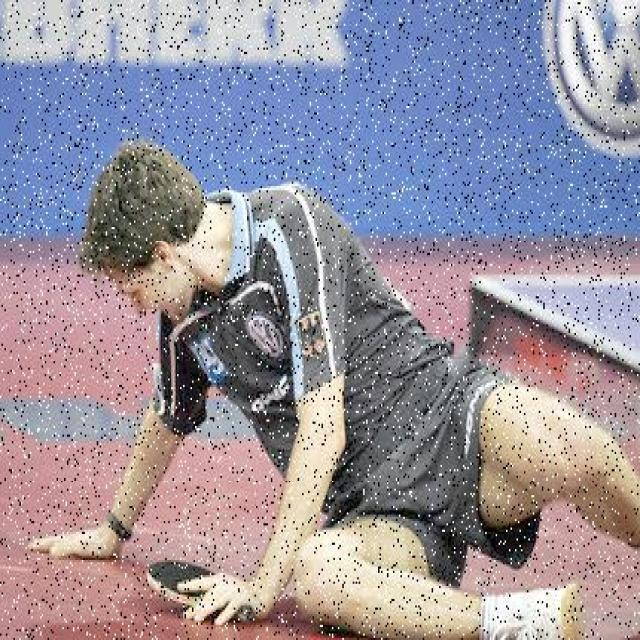fall: (92, 150, 603, 638)
